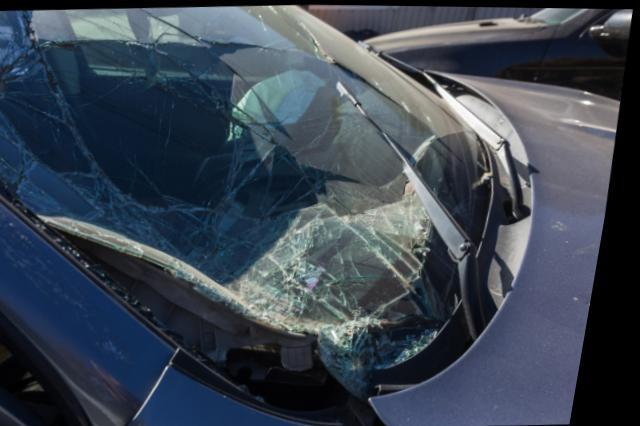glass shatter: (0, 4, 480, 406)
